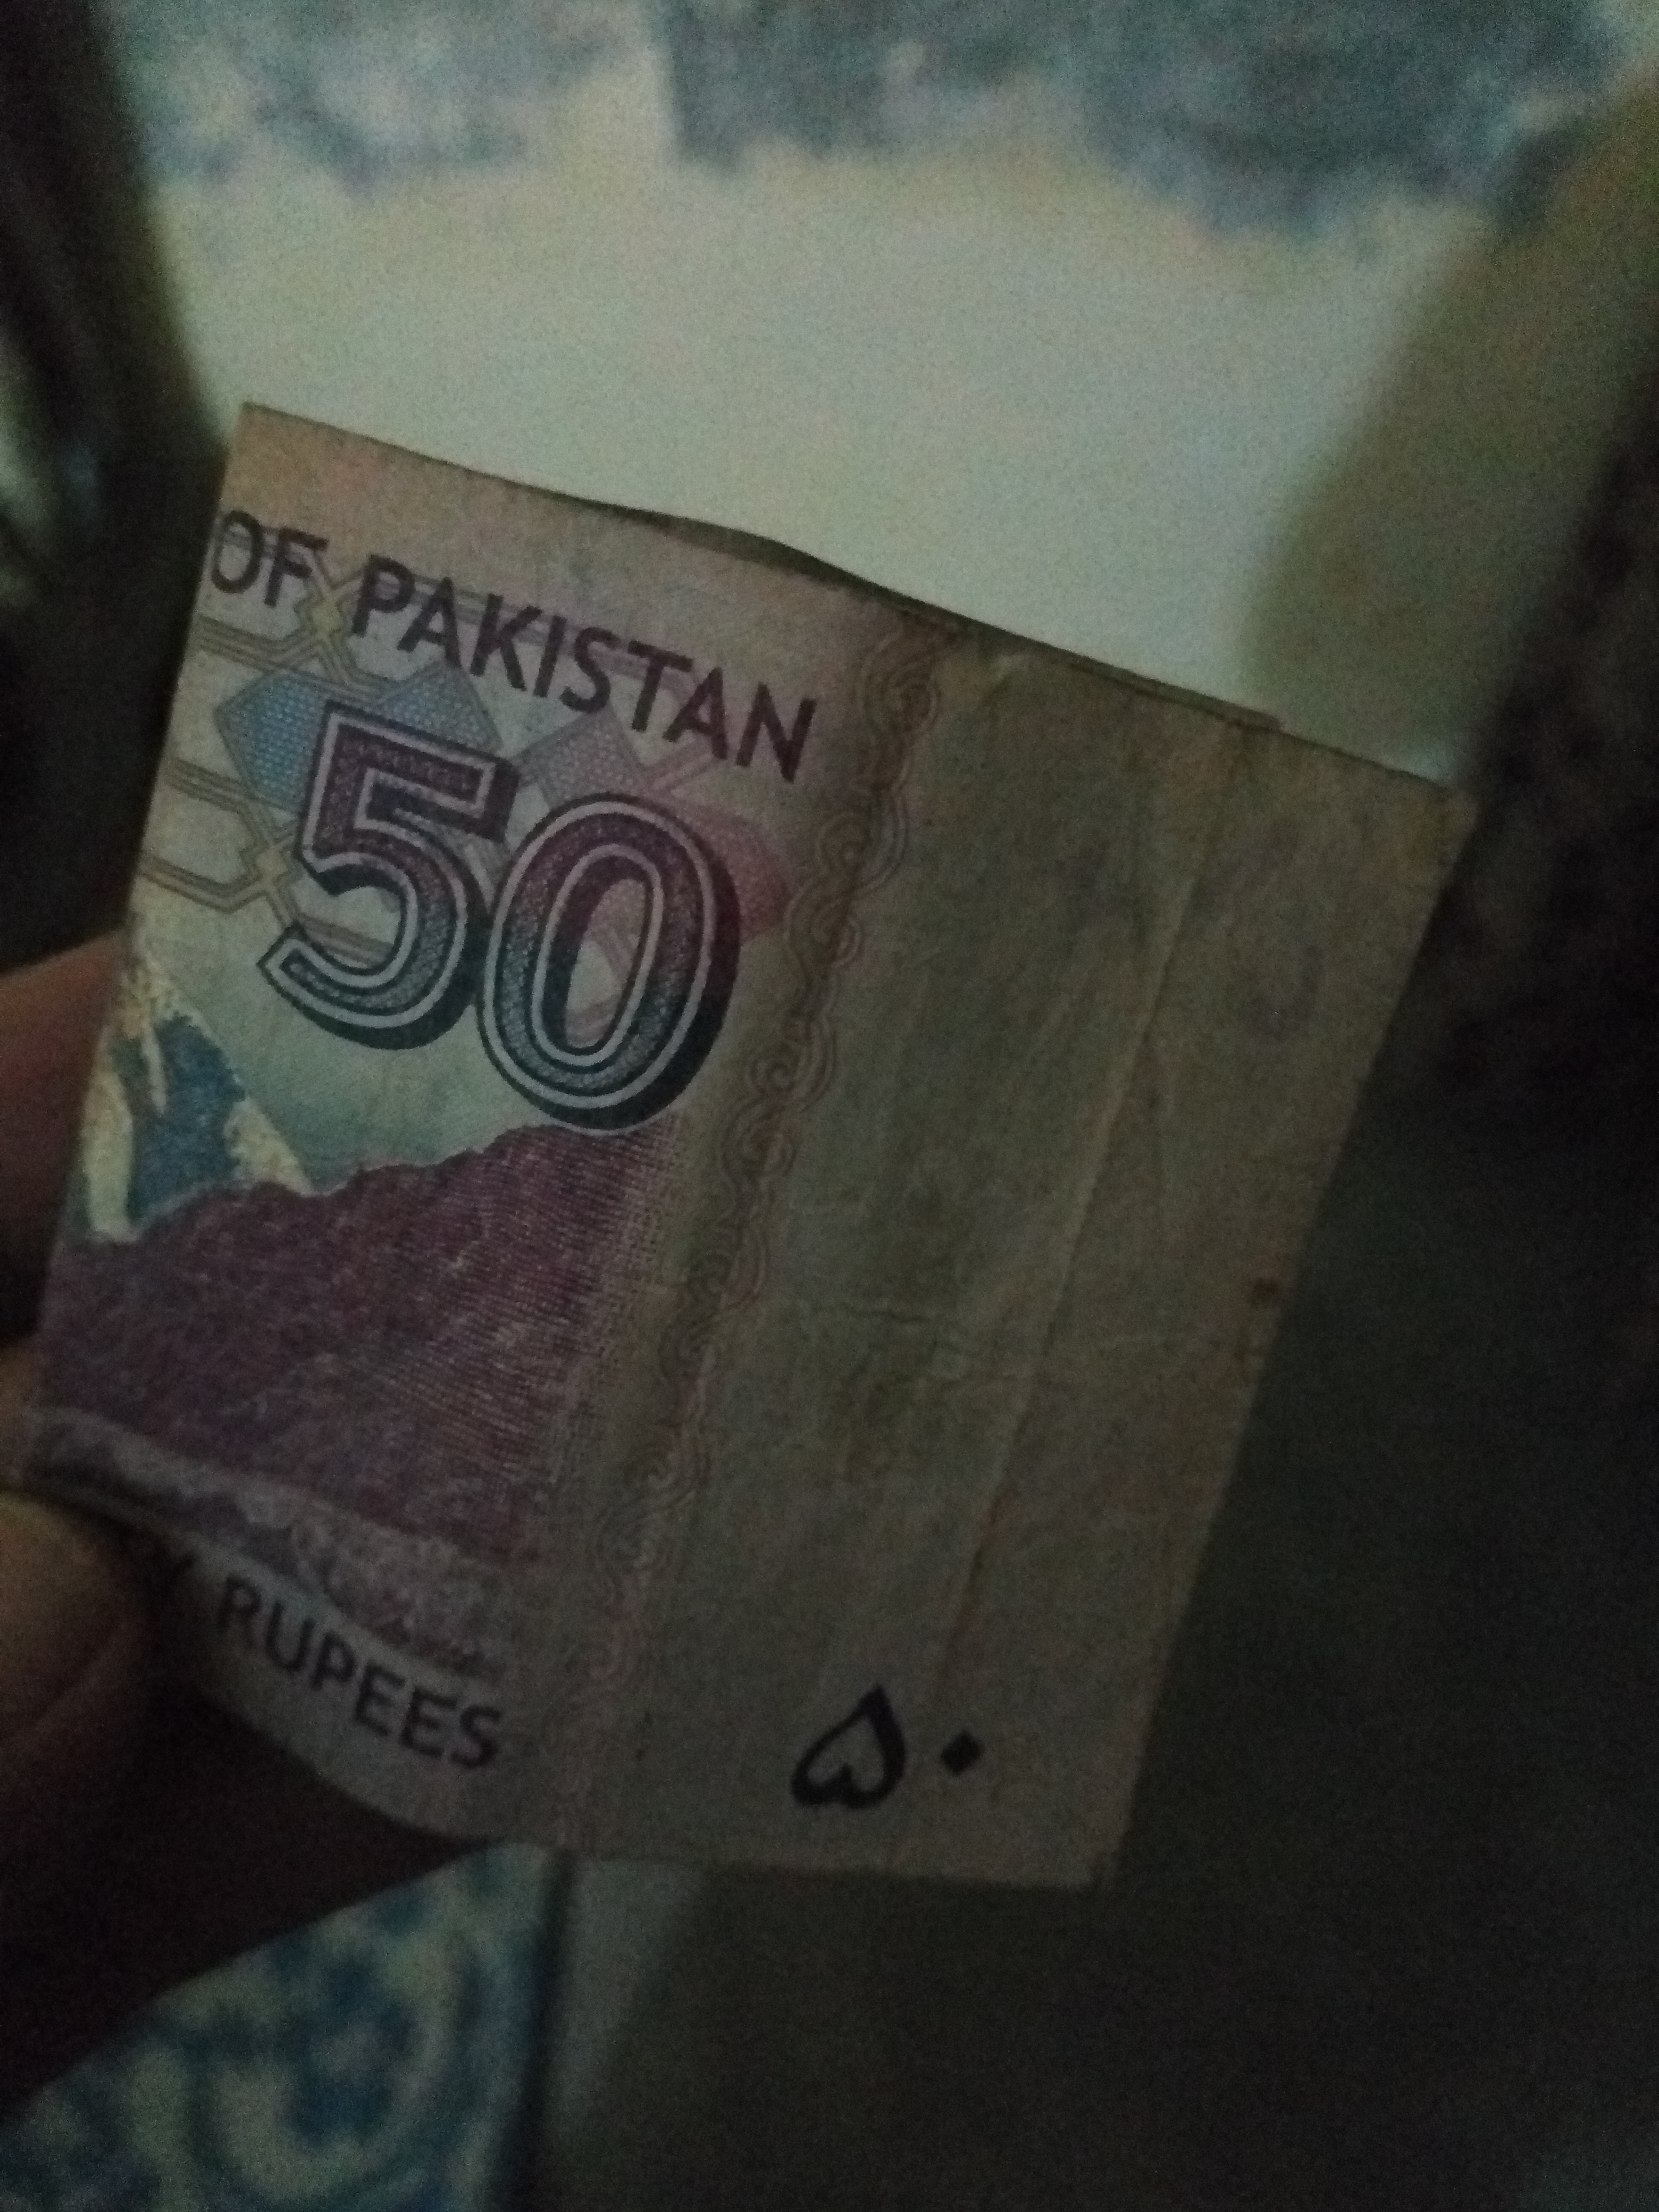50 rupee: (58, 260, 1527, 1996)
